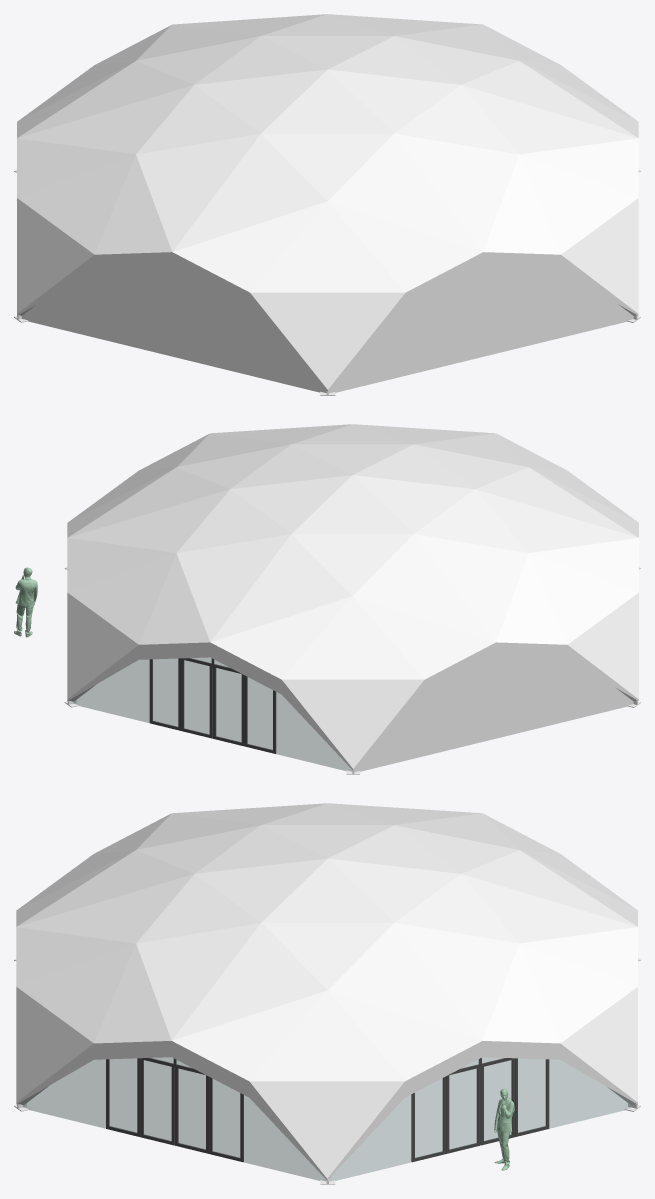
The model's file is hexa170.glb.
3 views of the same model, one above another, from view 1: azimuth 30°, elevation 25°; view 2: azimuth 150°, elevation 25°; view 3: azimuth 270°, elevation 25° (orthographic). The views are drawn at different scales.
Parts seen in each view (by area): view 1: tent, sidewall-1, sidewall-2, logo-area-4, logo-area-3, logo-area-5; view 2: tent, sidewall-3, windows-1, logo-area-6, logo-area-1, logo-area-5, frame-1, human; view 3: tent, windows-3, windows-2, logo-area-2, logo-area-3, logo-area-1, frame-2, frame-3, human.
Part boxes in pixels (<box>): tent: <box>17,14,638,391</box>; sidewall-1: <box>328,268,633,393</box>; sidewall-2: <box>22,268,326,392</box>; logo-area-4: <box>250,292,404,389</box>; logo-area-3: <box>561,198,638,313</box>; logo-area-5: <box>17,198,94,313</box>; tent: <box>67,424,638,770</box>; sidewall-3: <box>354,657,633,771</box>; windows-1: <box>73,657,352,771</box>; logo-area-6: <box>282,679,424,768</box>; logo-area-1: <box>67,592,138,698</box>; logo-area-5: <box>567,593,638,698</box>; frame-1: <box>149,658,276,753</box>; human: <box>14,567,37,637</box>; tent: <box>16,803,637,1180</box>; windows-3: <box>23,1057,326,1180</box>; windows-2: <box>329,1057,631,1180</box>; logo-area-2: <box>249,1081,404,1178</box>; logo-area-3: <box>16,987,93,1102</box>; logo-area-1: <box>560,987,637,1102</box>; frame-2: <box>411,1057,549,1162</box>; frame-3: <box>106,1058,243,1162</box>; human: <box>494,1089,514,1170</box>.
Size of the model in its own units: 162 by 43.55 by 141.
